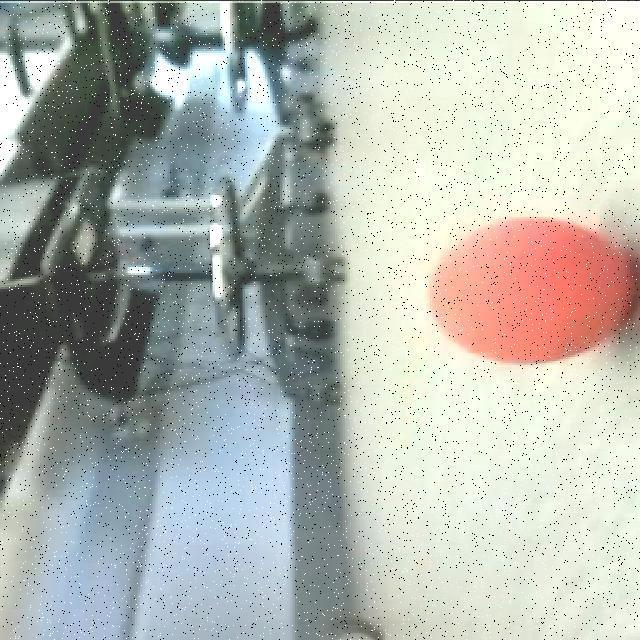ping-pong-ball: (423, 208, 640, 368)
